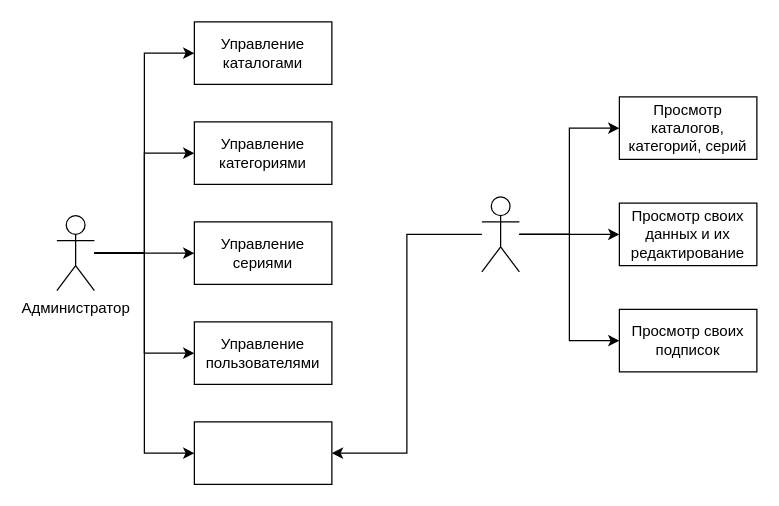
Some shapes in this 779 by 506 pixel diagram are drawn without their labels. Here are the shapes that lost their labels. From the top down, the centre of each, then its label:
At (x=500, y=234): "Пользователь".
At (x=262, y=452): "Управление подписками".
